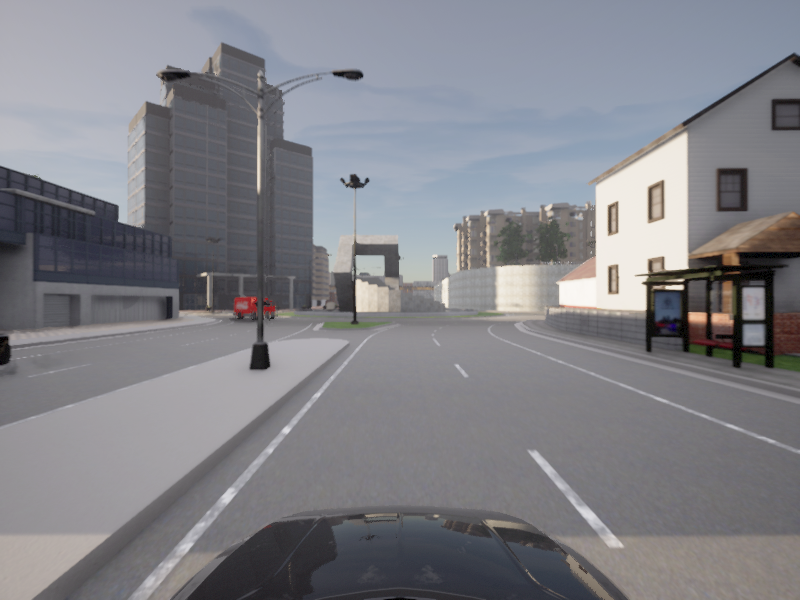vehicle: (0, 313, 25, 433), (231, 296, 280, 321)
